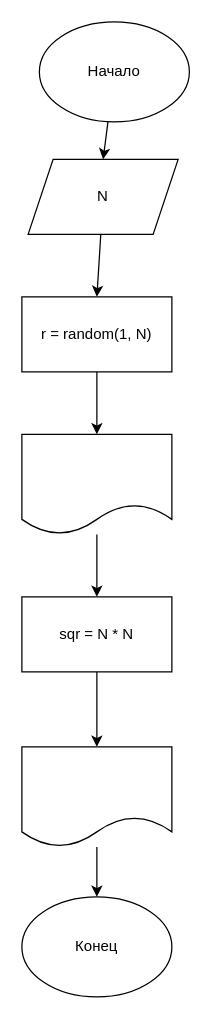
This 211x1019 diagram has some shape labels left out. The centre of each missing label's shape, as x and y in pixels:
"Квадрат случайного числа print(sqr)" goes at point (96, 796).
"Случайное число print(N)" goes at point (96, 483).
